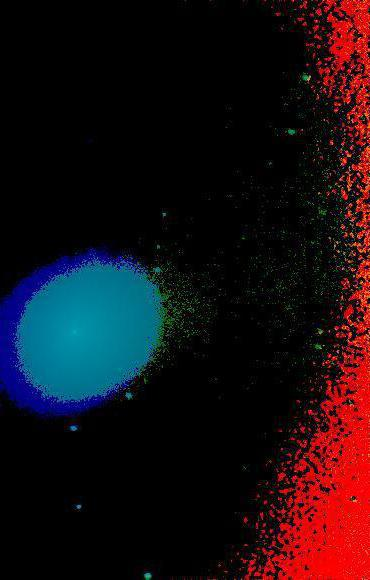star: (134, 367, 164, 397)
